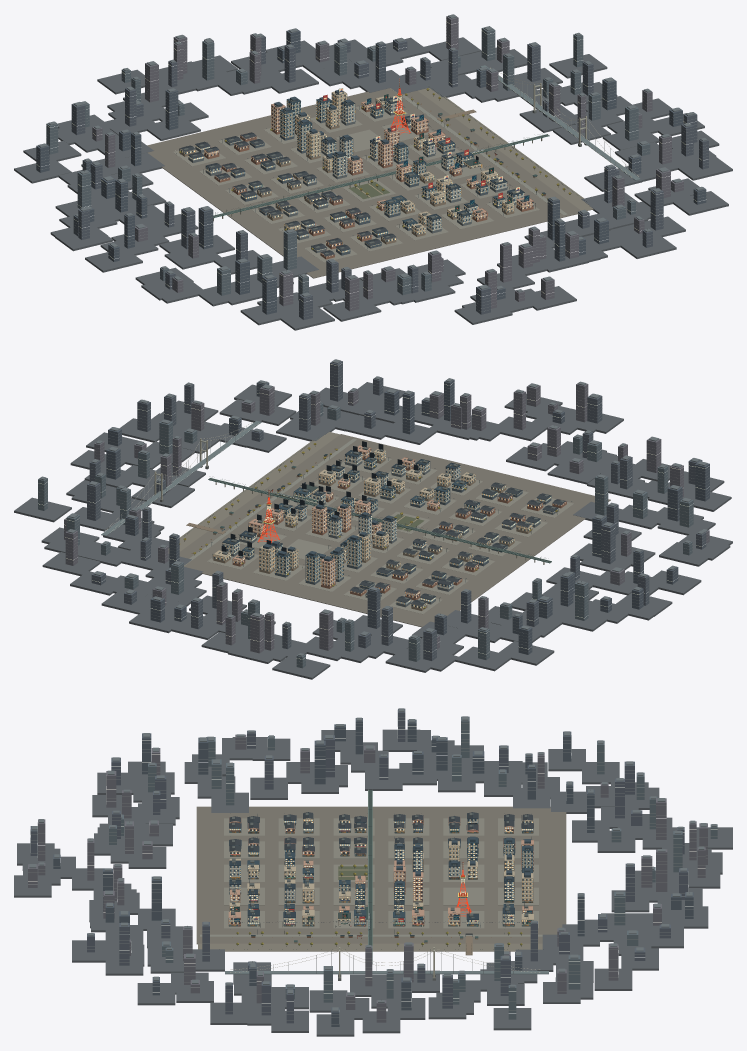
The model's file is tokyo-bay.glb.
The picture shows the model from 3 angles, top to bottom: view 1: azimuth 30°, elevation 25°; view 2: azimuth 150°, elevation 25°; view 3: azimuth 270°, elevation 25°; orthographic projection. The views are drawn at different scales.
Visible parts, largest first — view 1: Skyline, Ground, Blocks 1 0, Blocks 1 1, Blocks 1 2, Blocks 0 2, Blocks 0 0, Blocks 0 1, Bay bridge, Blocks 2 2, Blocks 2 1, Blocks 2 0 (+1 smaller); view 2: Skyline, Ground, Blocks 1 0, Blocks 1 2, Blocks 1 1, Blocks 0 2, Blocks 0 0, Blocks 0 1, Bay bridge, Blocks 2 2, Blocks 2 1, Blocks 2 0 (+1 smaller); view 3: Skyline, Ground, Blocks 1 0, Blocks 1 2, Blocks 1 1, Blocks 0 2, Bay bridge, Blocks 0 1, Blocks 2 2, Blocks 0 0, Blocks 2 1, Blocks 2 0 (+1 smaller).
Boxes of the visible parts, x1,y1,x2,y2 form: Skyline: (14,14,732,330); Ground: (147,87,593,278); Blocks 1 0: (271,88,355,159); Blocks 1 1: (322,125,434,187); Blocks 1 2: (377,175,487,236); Blocks 0 2: (284,207,396,259); Blocks 0 0: (179,132,290,182); Blocks 0 1: (232,171,342,220); Bay bridge: (480,65,640,180); Blocks 2 2: (466,167,533,214); Blocks 2 1: (414,129,473,176); Blocks 2 0: (361,94,428,134); Skyline: (14,359,732,679); Ground: (168,432,610,627); Blocks 1 0: (259,531,370,588); Blocks 1 2: (363,457,475,511); Blocks 1 1: (312,491,396,550); Blocks 0 2: (455,482,566,533); Blocks 0 0: (349,559,462,610); Blocks 0 1: (402,521,514,572); Bay bridge: (101,420,261,536); Blocks 2 2: (318,441,385,489); Blocks 2 1: (266,483,333,527); Blocks 2 0: (213,514,266,566); Skyline: (14,708,732,1036); Ground: (196,806,566,951); Blocks 1 0: (448,836,533,902); Blocks 1 2: (229,852,314,903); Blocks 1 1: (339,843,423,902); Blocks 0 2: (229,812,314,856); Bay bridge: (225,947,548,980); Blocks 0 1: (338,814,423,856); Blocks 2 2: (228,899,314,926); Blocks 0 0: (448,812,533,856); Blocks 2 1: (339,895,424,926); Blocks 2 0: (448,901,533,926).
Size of the model in its own units: 1054 by 93.41 by 1050.
Materials: 13 (5 with a texture image).
